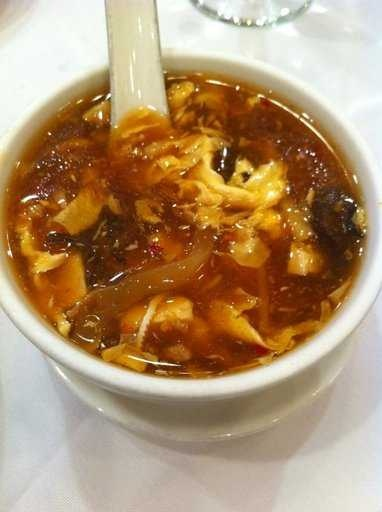soup: (2, 77, 357, 387)
